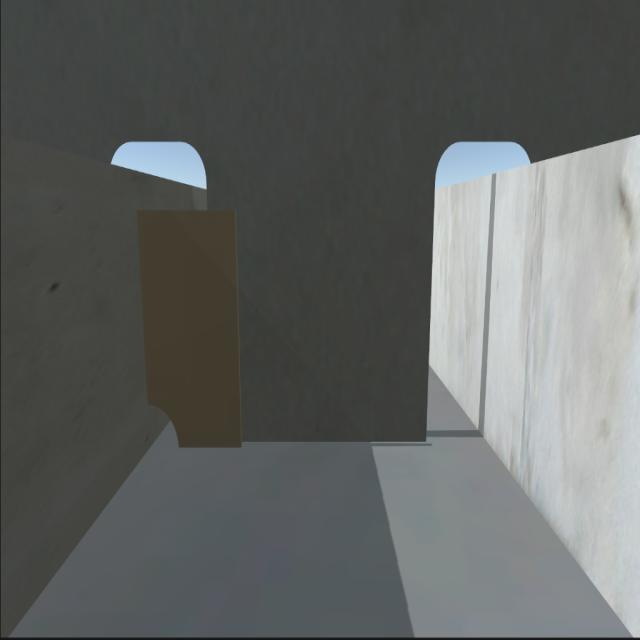fillet_hole: (152, 408, 180, 452)
fillet_yong_jeop_jang: (182, 438, 428, 452)
longi_yong_jeop_jang: (133, 214, 155, 408)
plate_CP01: (138, 210, 242, 449)
